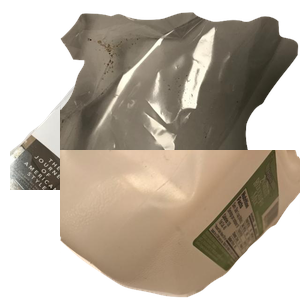glass: (115, 120, 300, 300)
paper: (10, 46, 250, 226)
plastic: (60, 150, 300, 300)
trash: (60, 10, 300, 190)
